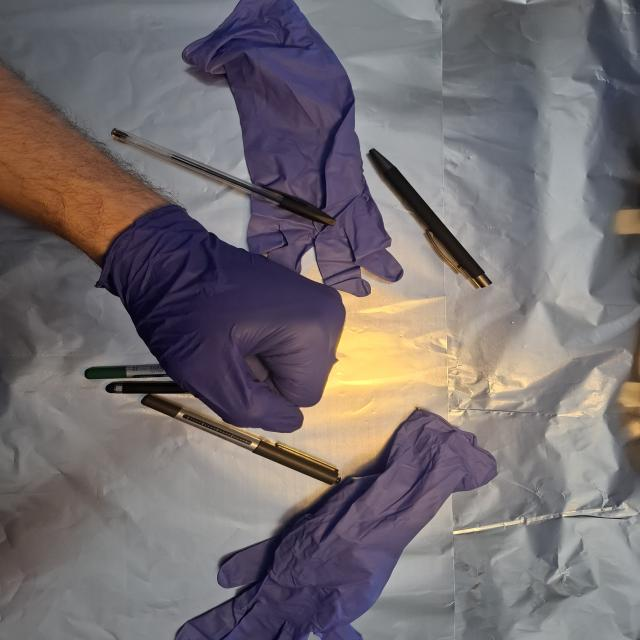glove_on: (96, 204, 352, 437)
